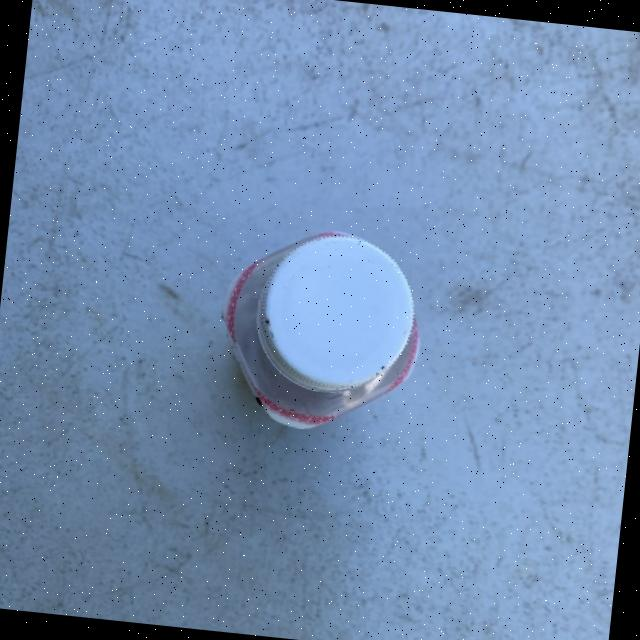plastic: (210, 218, 429, 440)
